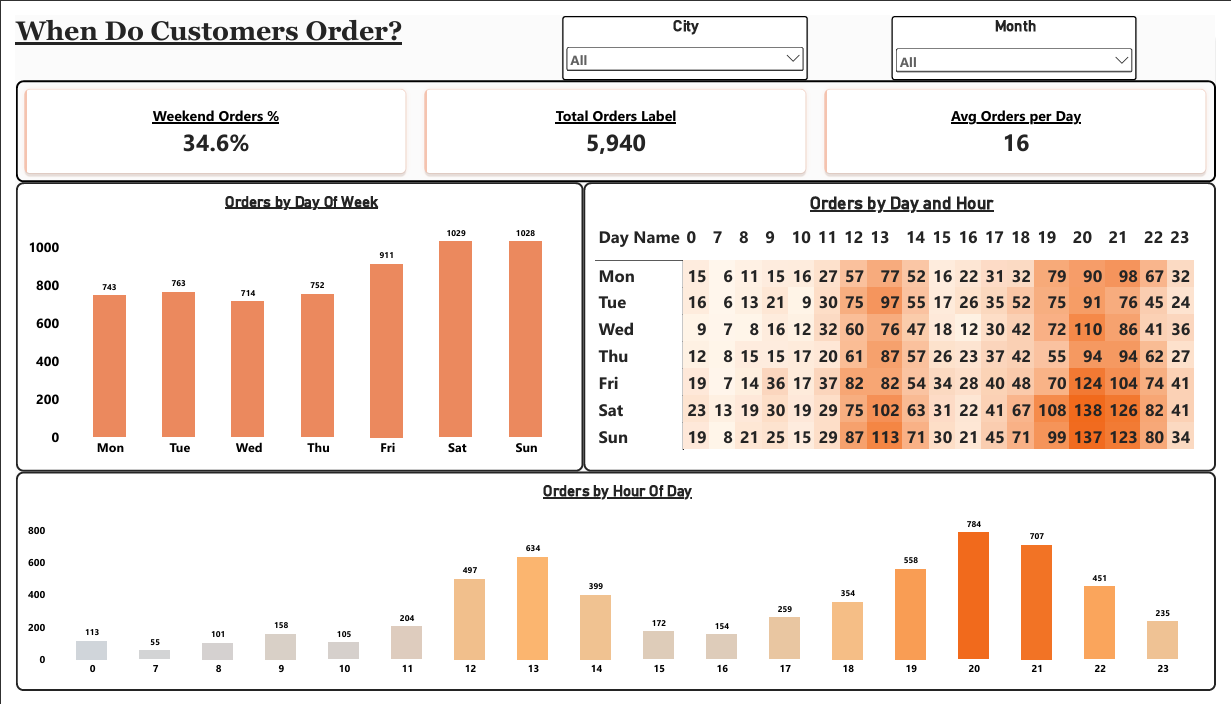

What the dashboard file says about the page in this screenshot:
{"tool":"powerbi","page":{"name":"Demand","canvas":[1920,1080],"ordinal":1},"visuals":[{"type":"cardVisual","fields":{"Data":["Measures .Weekend Orders %","Measures .Total Orders Label","Measures .Avg Orders per Day"]},"box":[0,103.2,1920.1,162.9],"z":0},{"type":"slicer","title":"Month","fields":{"Values":["Calendar.Month Name"]},"box":[1400.7,0,392.7,103.2],"z":1000},{"type":"slicer","title":"City","fields":{"Values":["Orders.City"]},"box":[874.1,0,392.7,103.2],"z":2000},{"type":"clusteredColumnChart","title":"Orders by Hour Of Day","fields":{"Category":["Orders.Order_Hour"],"Y":["Measures .Total Orders"]},"box":[0,729.3,1920.1,351.1],"z":3000},{"type":"clusteredColumnChart","title":"Orders by Day Of Week","fields":{"Category":["Calendar.Day Name"],"Y":["Measures .Total Orders"]},"box":[0,266,908.4,463.3],"z":4000},{"type":"pivotTable","title":"Orders by Day and Hour","fields":{"Columns":["Orders.Order_Hour"],"Rows":["Calendar.Day Name"],"Values":["Measures .Total Orders"]},"box":[908.4,266,1011.6,463.3],"z":5000},{"type":"textbox","box":[0,0,658.7,103.2],"z":6000}]}

Visuals, with their boxes in screenshot pixels (x1, y1, x2, y2), scaled from the page's 1920x1080 canvas onto the 1231x704 screenshot:
cardVisual - Measures .Weekend Orders % x Measures .Total Orders Label: <region>0, 67, 1230, 173</region>
"Month" slicer: <region>898, 0, 1150, 67</region>
"City" slicer: <region>560, 0, 812, 67</region>
"Orders by Hour Of Day" clusteredColumnChart: <region>0, 475, 1230, 703</region>
"Orders by Day Of Week" clusteredColumnChart: <region>0, 173, 582, 475</region>
"Orders by Day and Hour" pivotTable: <region>582, 173, 1230, 475</region>
textbox: <region>0, 0, 422, 67</region>
